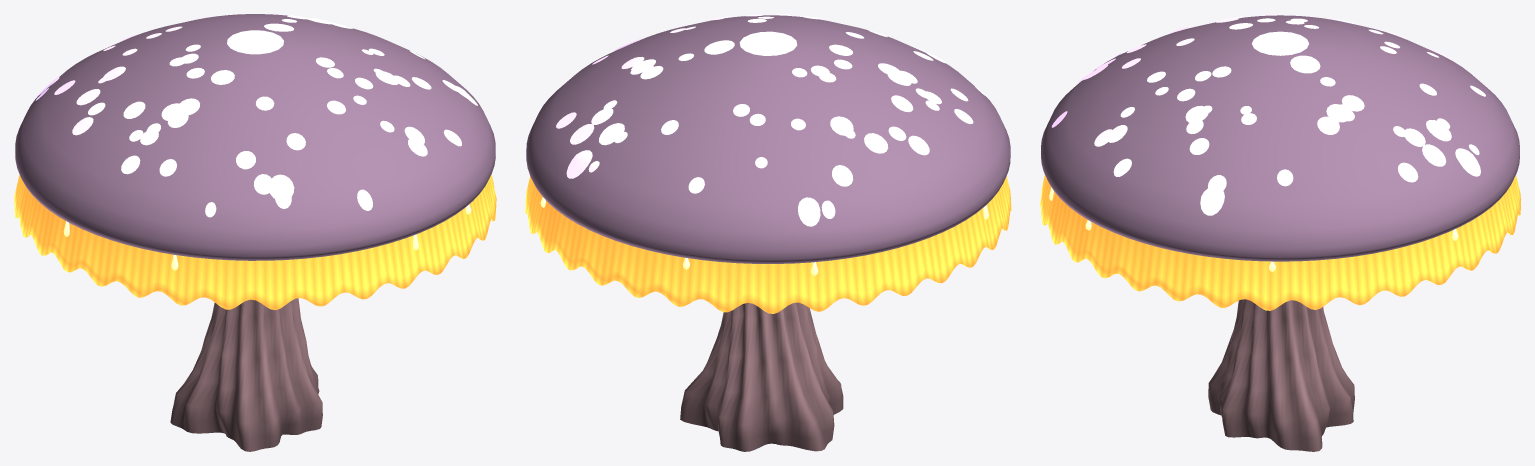
Rendered from giant2_hero.glb.
The picture shows the model from 3 angles, left to right: view 1: azimuth 30°, elevation 25°; view 2: azimuth 150°, elevation 25°; view 3: azimuth 270°, elevation 25°; orthographic projection.
Parts seen in each view (by area): view 1: cap, gill_frill, stem, spot_nightglow; view 2: cap, gill_frill, stem, spot_nightglow; view 3: cap, gill_frill, stem, spot_nightglow.
Part boxes in pixels (x1=…): cap: x1=15, y1=14, x2=495, y2=260; gill_frill: x1=14, y1=174, x2=496, y2=310; stem: x1=170, y1=298, x2=322, y2=451; spot_nightglow: x1=35, y1=14, x2=477, y2=217; cap: x1=526, y1=15, x2=1010, y2=263; gill_frill: x1=525, y1=176, x2=1011, y2=313; stem: x1=680, y1=302, x2=843, y2=451; spot_nightglow: x1=556, y1=14, x2=985, y2=226; cap: x1=1041, y1=15, x2=1519, y2=261; gill_frill: x1=1040, y1=175, x2=1520, y2=310; stem: x1=1208, y1=299, x2=1354, y2=451; spot_nightglow: x1=1051, y1=14, x2=1485, y2=215.
Size of the model in its own units: 14.05 by 12.16 by 14.05.
